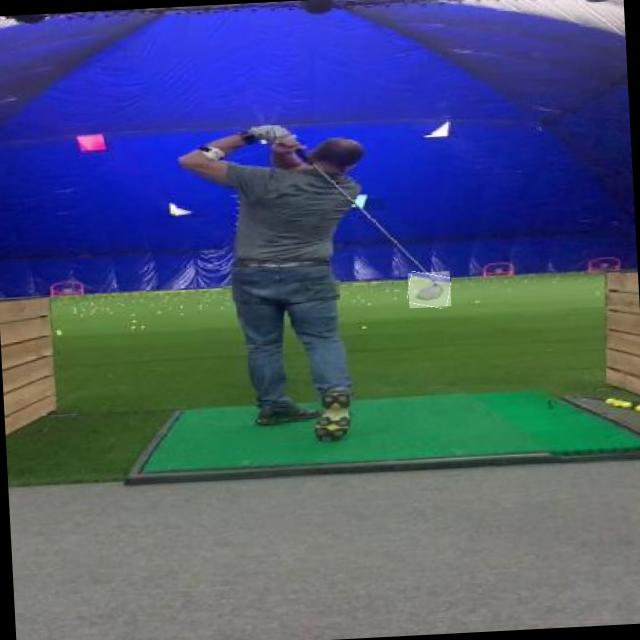club head: (408, 271, 452, 308)
